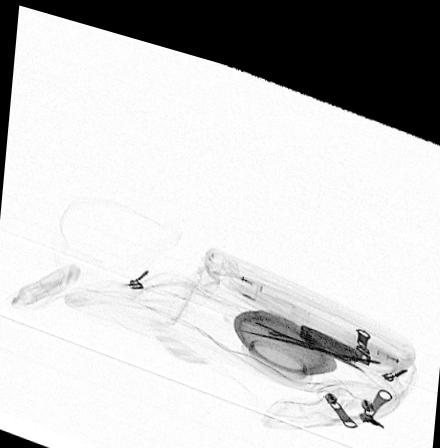Scissors: (226, 304, 390, 355)
